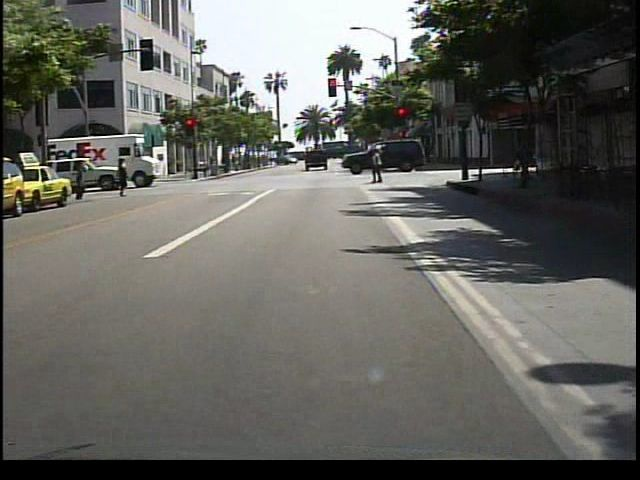person: (511, 137, 538, 189), (70, 158, 94, 202), (112, 156, 131, 200), (367, 147, 390, 183)
